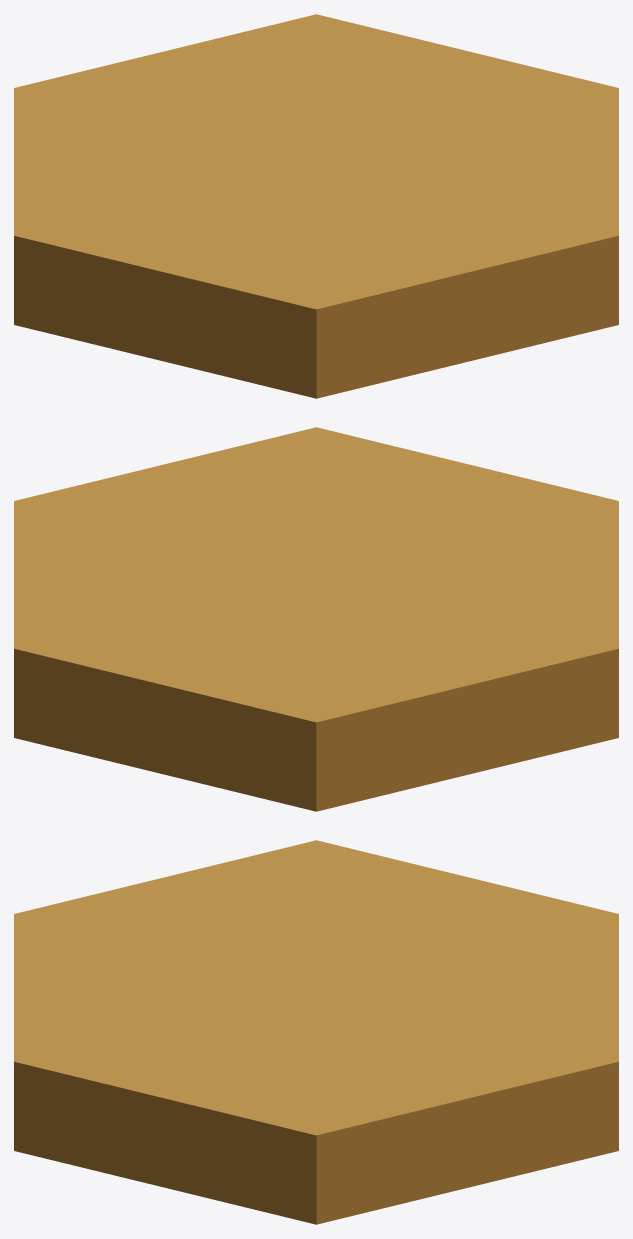
Rendered from SD_Prop_Coin_01.fbx.
3 renders of one model, top to bottom at view 1: azimuth 30°, elevation 25°; view 2: azimuth 150°, elevation 25°; view 3: azimuth 270°, elevation 25°, orthographic.
Parts seen in each view (by area): view 1: SD_Prop_Coin_01; view 2: SD_Prop_Coin_01; view 3: SD_Prop_Coin_01.
Part boxes in pixels (bbox=[...]): SD_Prop_Coin_01: bbox=[14, 14, 618, 398]; SD_Prop_Coin_01: bbox=[14, 427, 618, 811]; SD_Prop_Coin_01: bbox=[14, 840, 618, 1224].
Bounding box in the file's own units: 0.18 × 0.0254 × 0.1559.
